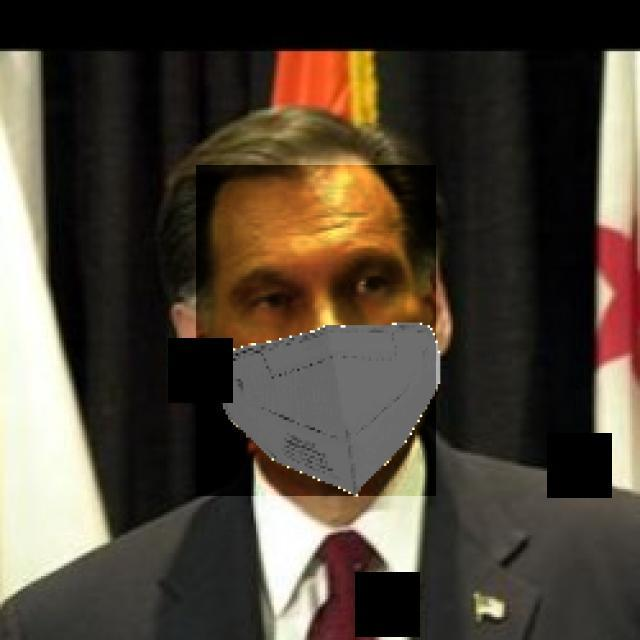kn95: (196, 165, 436, 496)
